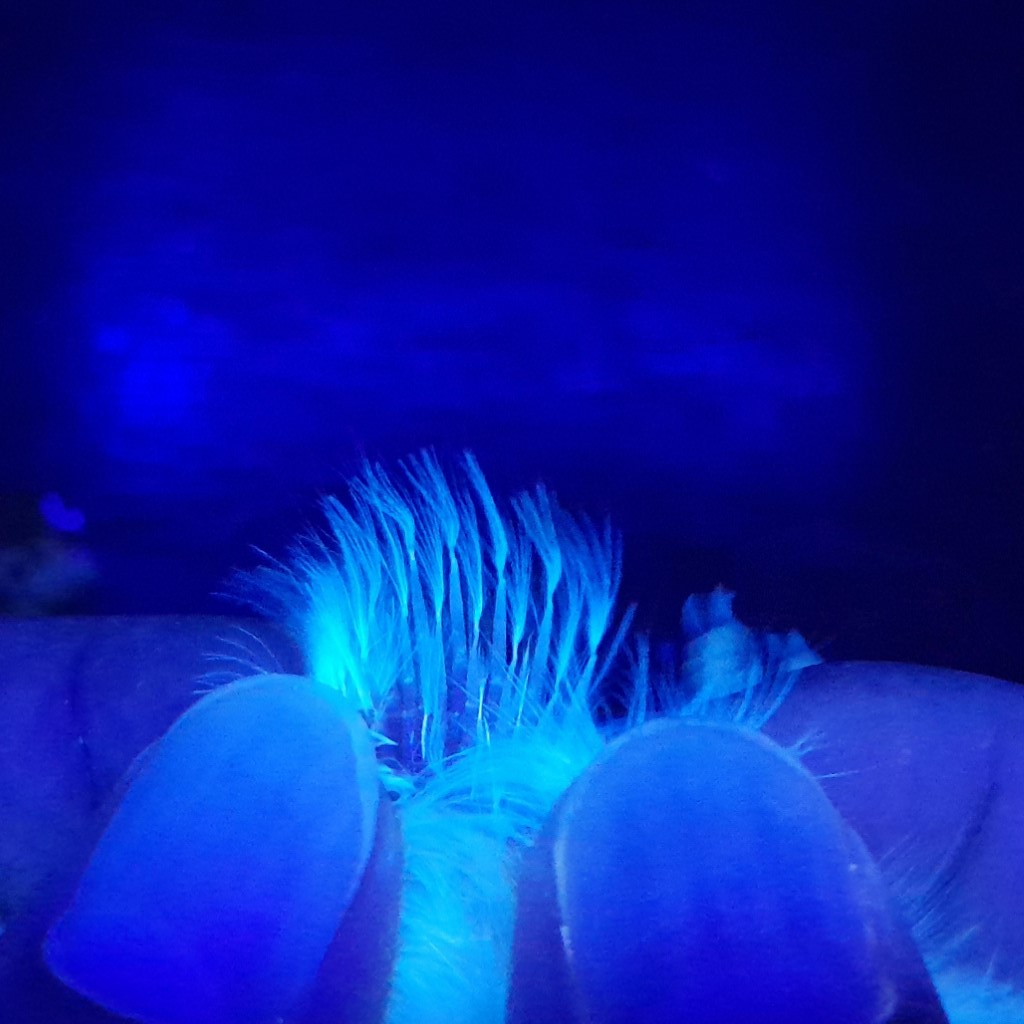female: (331, 533, 617, 818)
